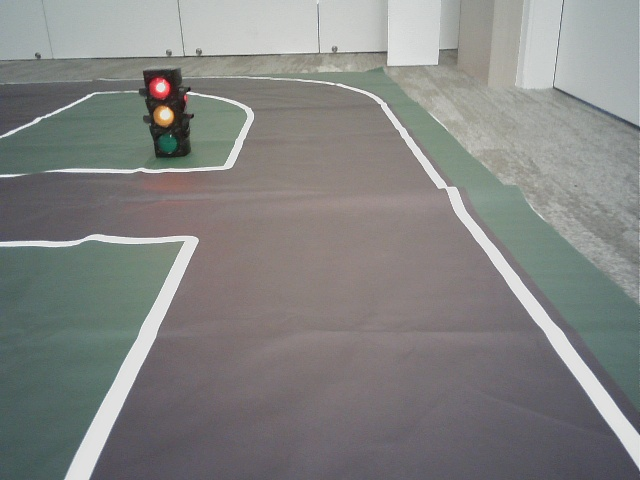red: (146, 69, 182, 155)
